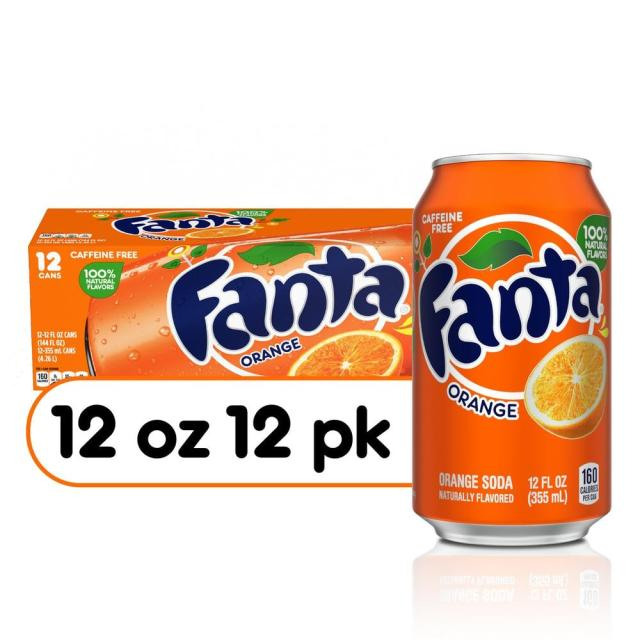fanta: (405, 155, 620, 552)
